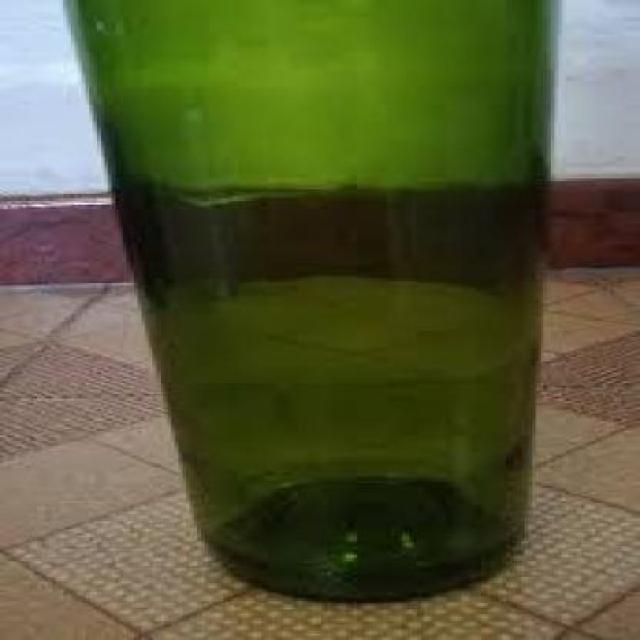GLASS: (59, 0, 552, 603)
